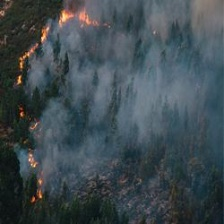fire: (15, 9, 98, 94), (15, 108, 49, 207)
smoke: (118, 1, 224, 184)
